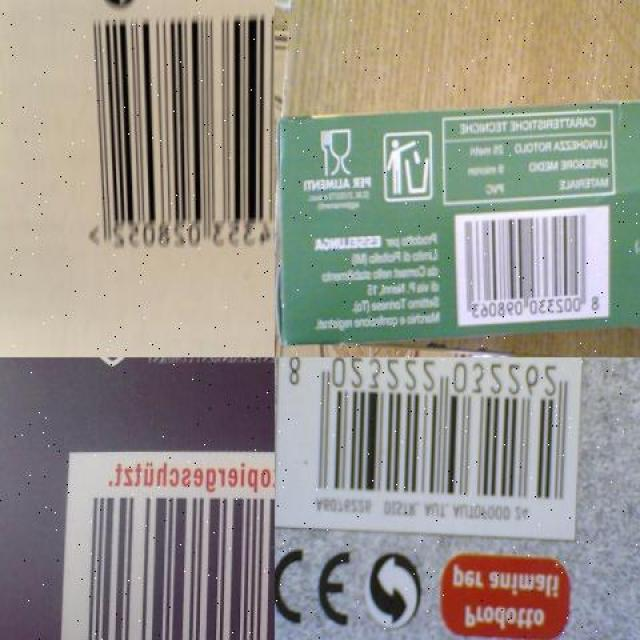Barcode: (275, 357, 580, 539), (76, 0, 275, 267), (56, 445, 275, 640), (452, 203, 608, 329)
